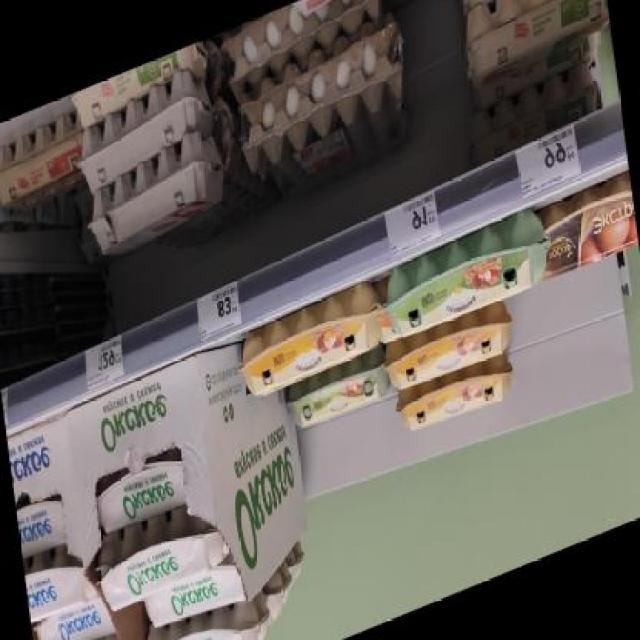Egg: (382, 196, 555, 344), (234, 275, 389, 414), (91, 497, 226, 618), (470, 40, 608, 158), (458, 0, 611, 94), (382, 294, 516, 400), (536, 162, 640, 290), (71, 39, 209, 133), (392, 345, 519, 446), (283, 344, 392, 444), (0, 111, 89, 224), (91, 447, 189, 541), (146, 553, 245, 639), (136, 586, 264, 640), (23, 540, 94, 628), (275, 0, 442, 28), (30, 584, 115, 639), (16, 489, 69, 560)
